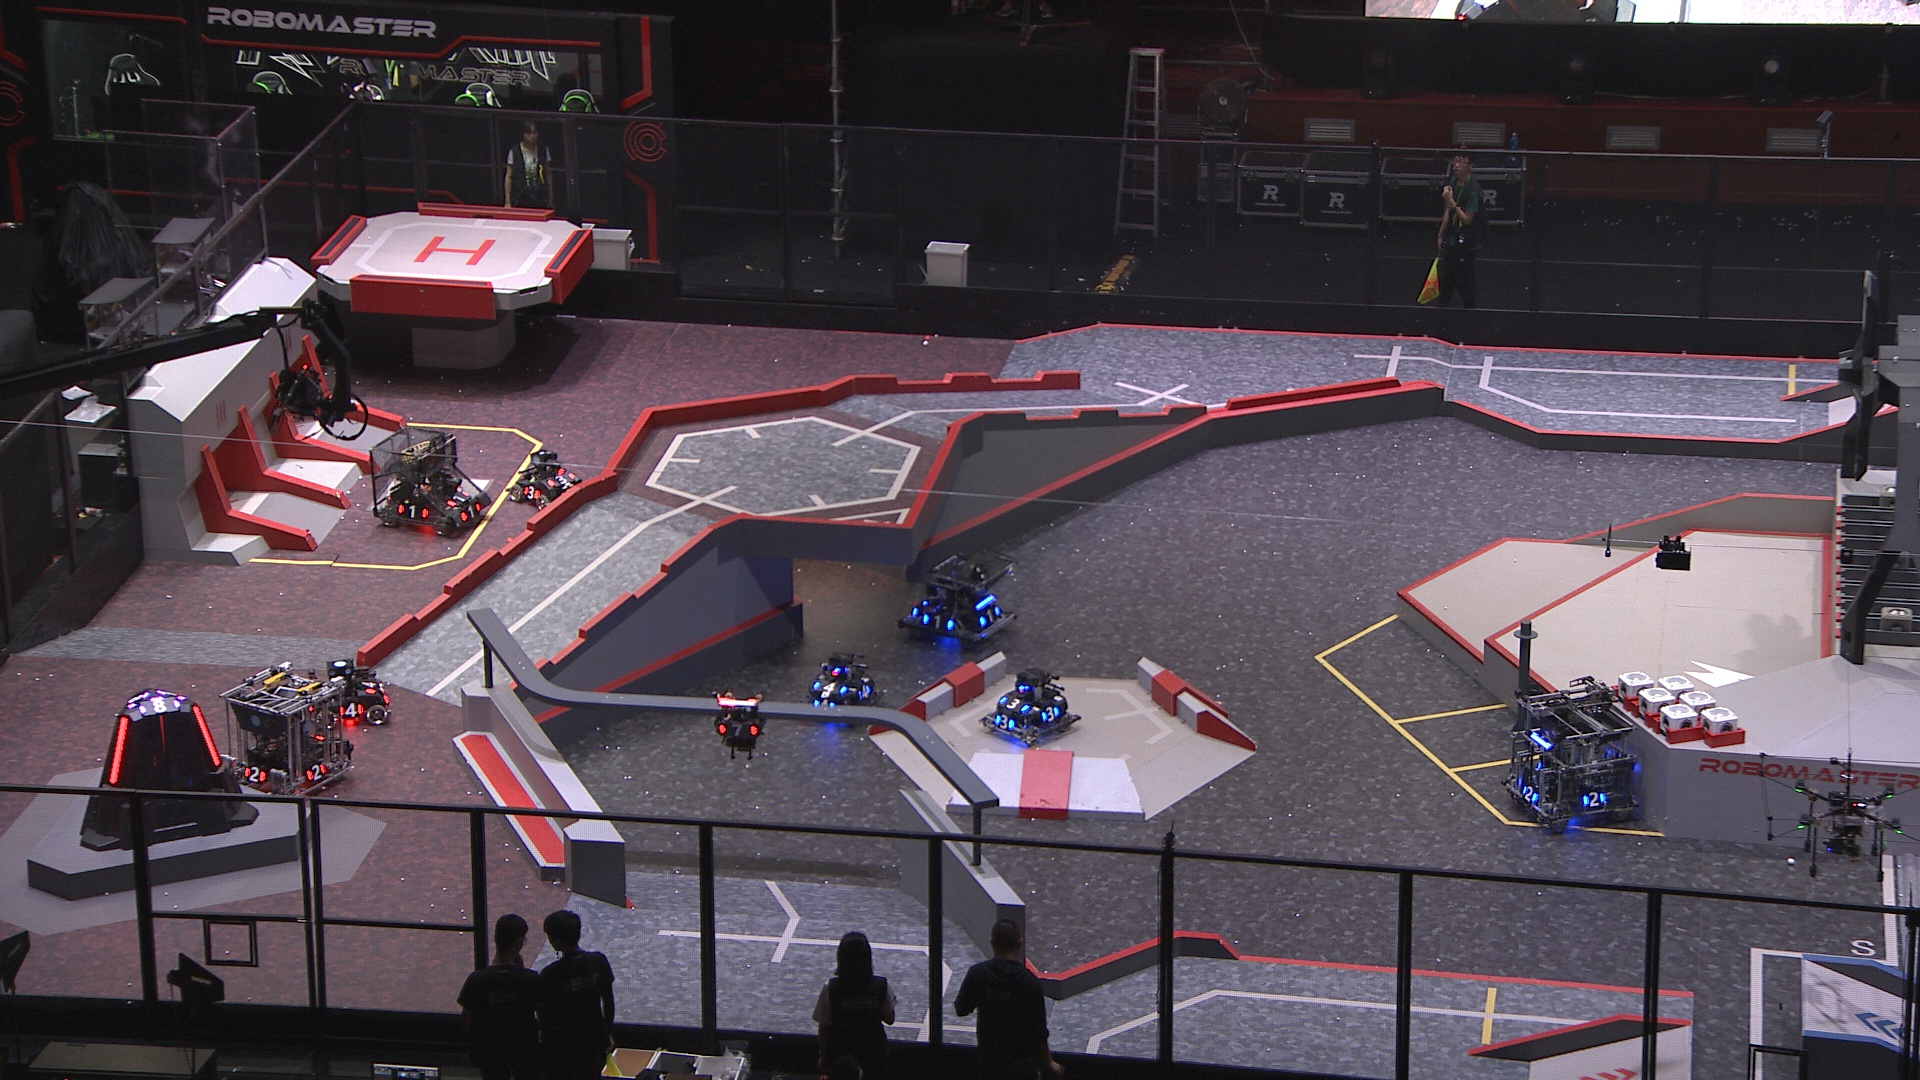armor: (193, 702, 222, 769), (105, 713, 131, 785), (713, 723, 760, 738), (996, 694, 1029, 713), (394, 502, 430, 520), (920, 613, 953, 632), (239, 764, 266, 785), (977, 607, 1002, 629), (1580, 790, 1609, 808), (460, 501, 483, 524), (305, 764, 328, 785), (338, 700, 363, 719), (446, 491, 472, 508), (855, 680, 874, 703), (549, 472, 576, 488), (1039, 704, 1063, 723), (814, 680, 847, 694), (994, 713, 1015, 732), (520, 484, 543, 500), (1519, 785, 1538, 804), (359, 674, 376, 695), (811, 698, 837, 709)
base: (78, 684, 257, 853)
car: (1505, 674, 1640, 831), (214, 659, 356, 806), (368, 425, 495, 533), (899, 549, 1017, 651), (981, 669, 1077, 746), (502, 444, 589, 517), (319, 659, 392, 731), (807, 651, 876, 717)
ignore: (135, 694, 182, 716)
watcher: (709, 692, 769, 760)
